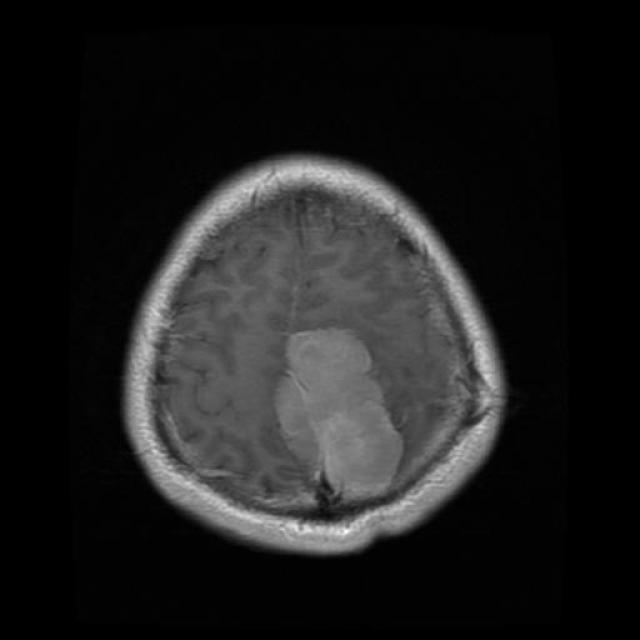meningioma: (275, 329, 404, 504)
